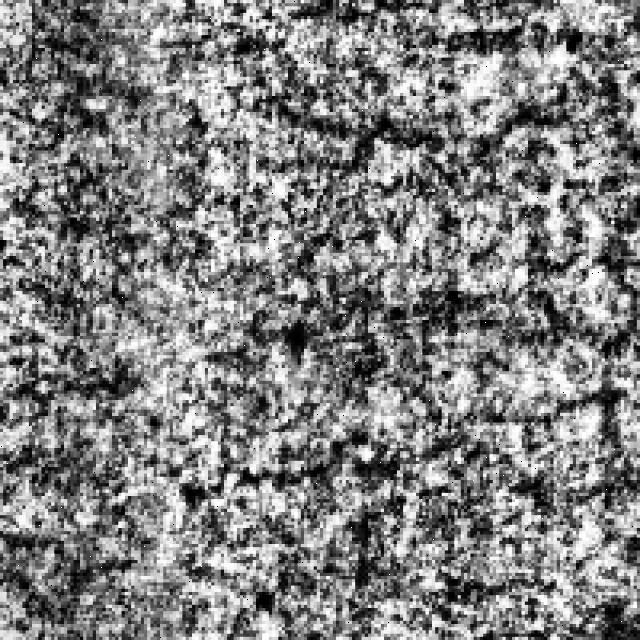Pitted_Surface: (166, 381, 637, 509), (221, 0, 564, 173)
